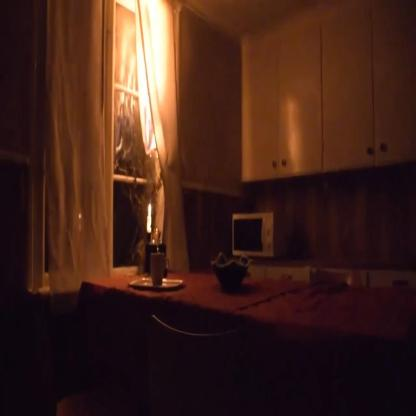fire: (116, 0, 183, 154), (148, 202, 152, 214)
